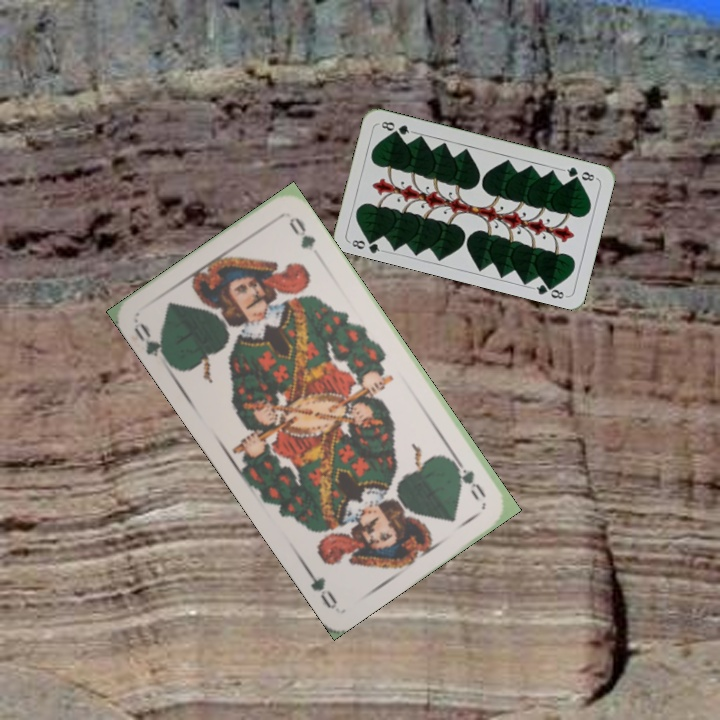G8: (346, 233, 386, 256), (559, 163, 599, 184)
GO: (129, 318, 173, 369), (446, 452, 489, 504)
